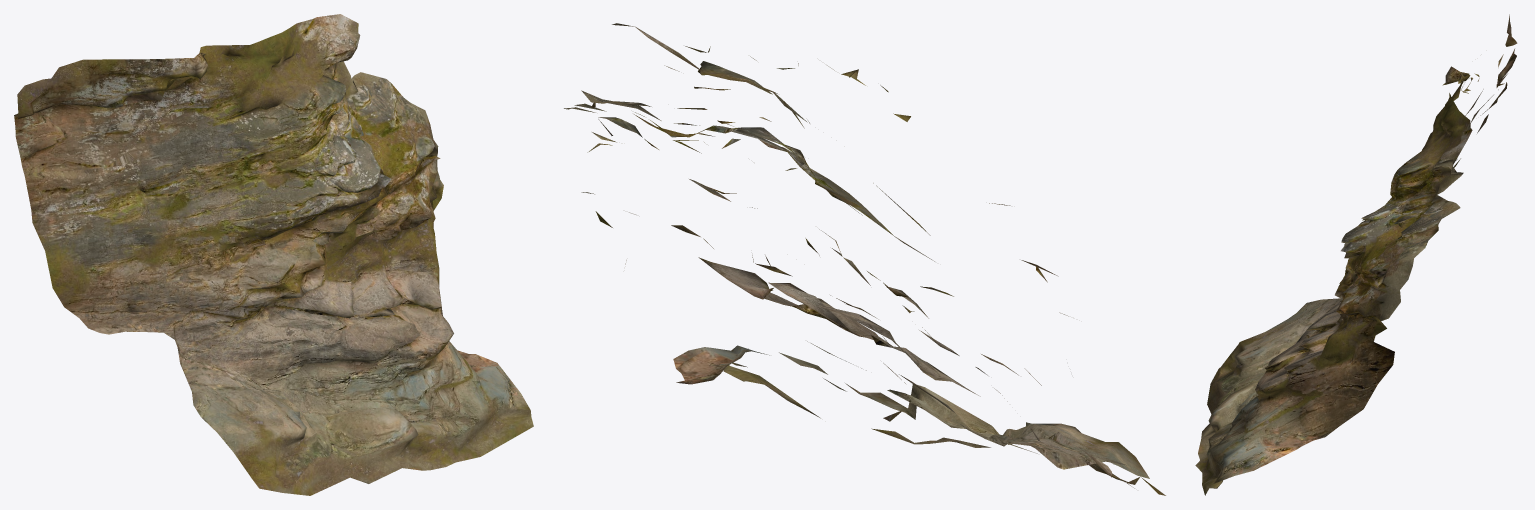
3 views of the same model, side by side, from view 1: azimuth 30°, elevation 25°; view 2: azimuth 150°, elevation 25°; view 3: azimuth 270°, elevation 25° (orthographic). The views are drawn at different scales.
Parts seen in each view (by area): view 1: rock_face_02_lod1; view 2: rock_face_02_lod1; view 3: rock_face_02_lod1.
Boxes of the visible parts, x1,y1,x2,y2 form: rock_face_02_lod1: (14,14,533,495); rock_face_02_lod1: (564,23,1165,495); rock_face_02_lod1: (1195,14,1517,495).
Size of the model in its own units: 2.71 by 2.47 by 2.13.
1 material, 1 textured.
